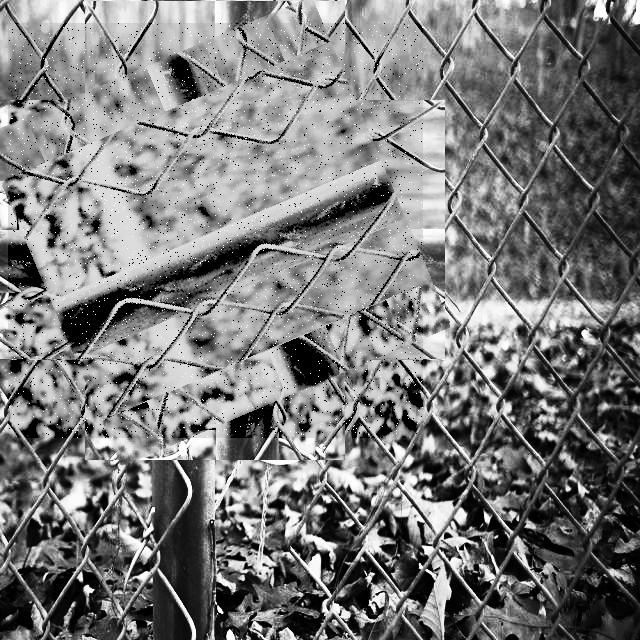anomaly-fence: (8, 23, 423, 438)
